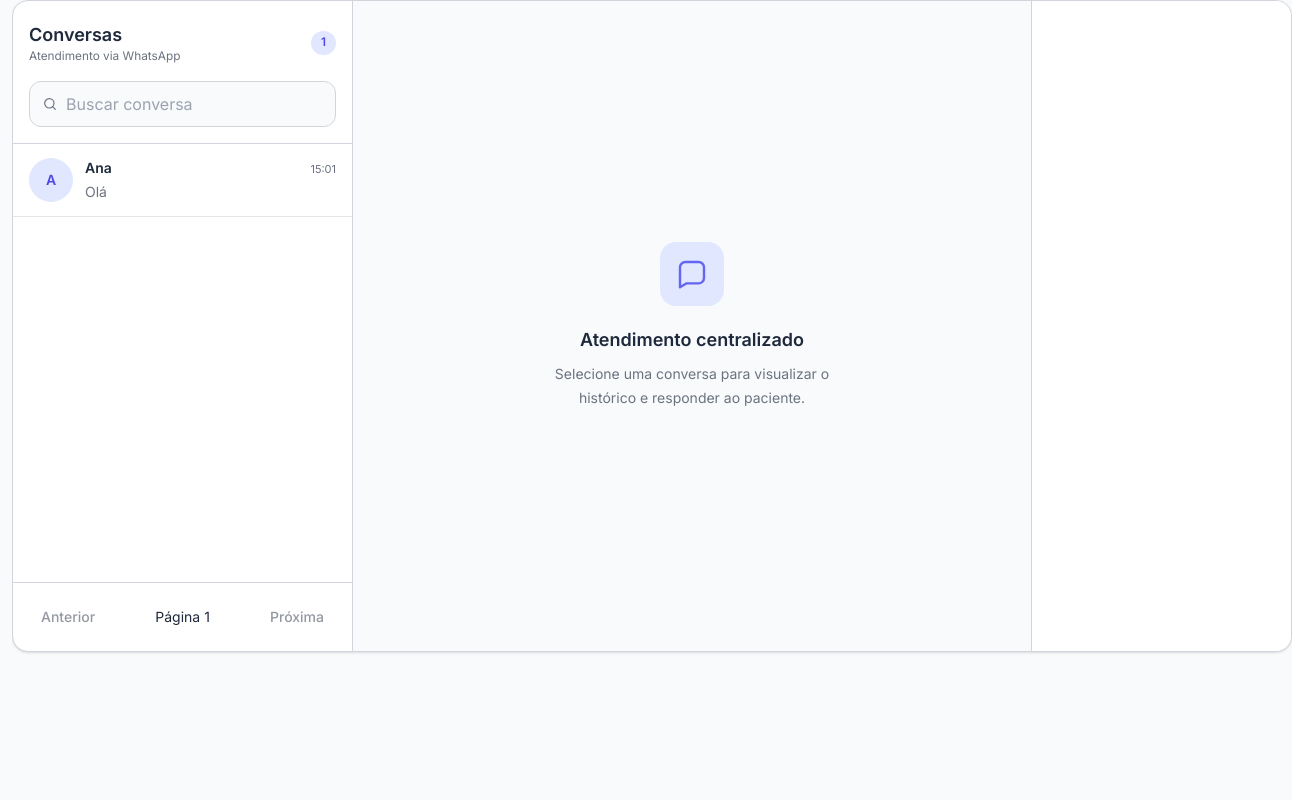
Scenario: AtendimentoPanel › opens the reply window from newly received history even when the list snapshot is old
Step 1. Click the button "A Ana 15:01 Olá" → (51, 180), box [13,144,352,217]
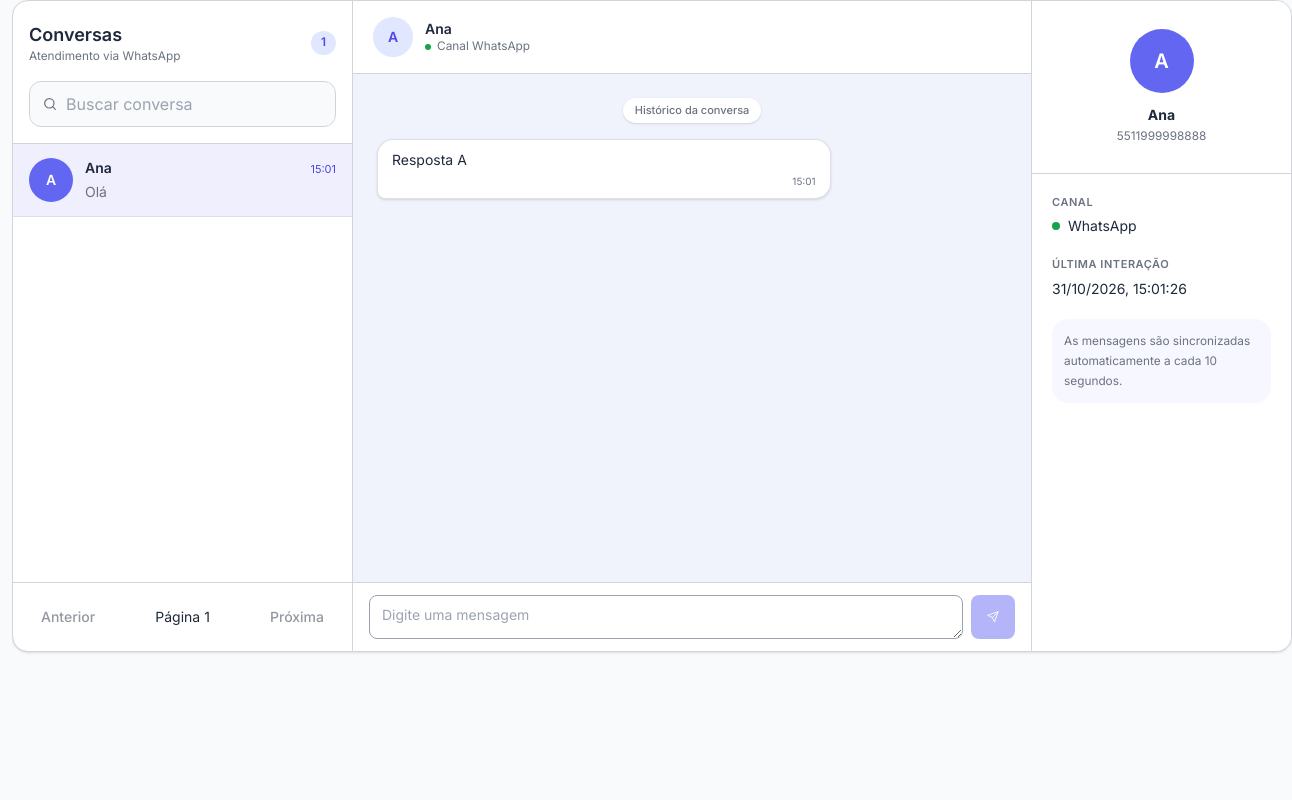
Expected: the text "Resposta A" is shown, [392,150,467,168]
Step 2. Type "Olá" into the text box labelled "mensagem" → (666, 617), box [369,595,963,639]
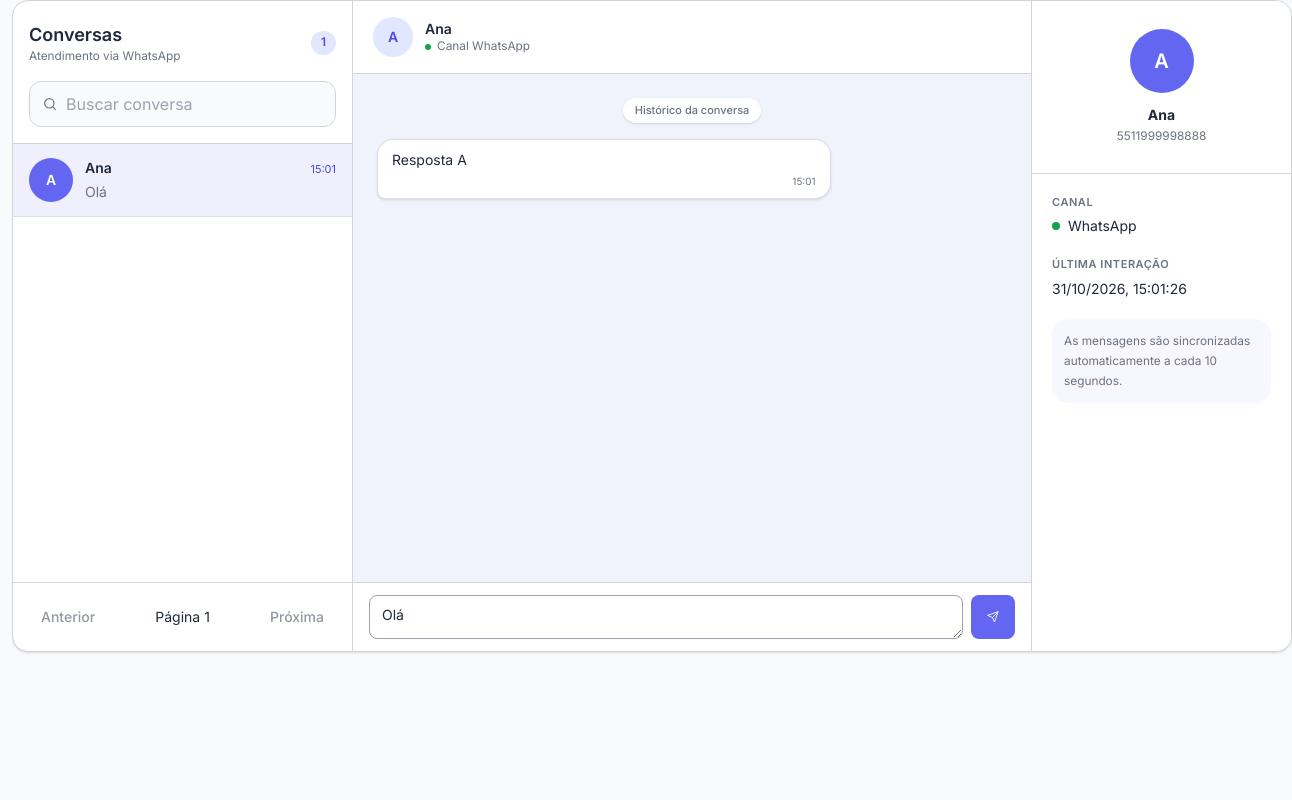
Expected: the button named "Enviar mensagem" is enabled, [971,595,1015,639]
